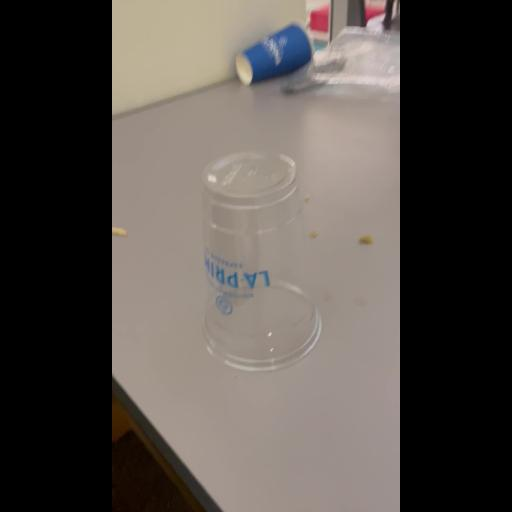lp_plastic_cup: (192, 144, 328, 376)
